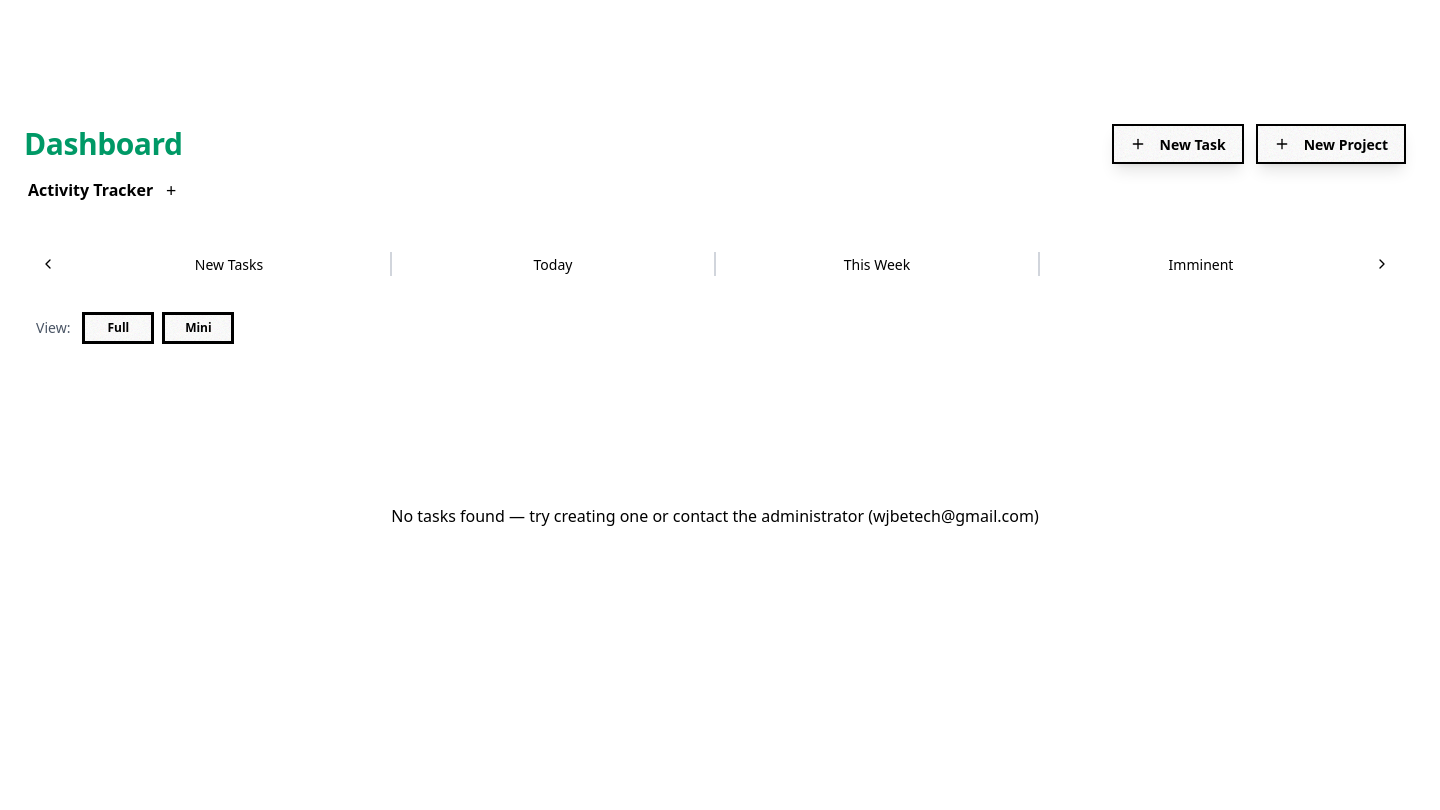
Dashboard modals › opens Add New Task modal when New Task clicked
This screenshot has width=1440, height=810.
What coordinates should you click on to do the following:
click the button "New Task"
I would click on:
 (1178, 144)
Its box is [1112,124,1244,164].
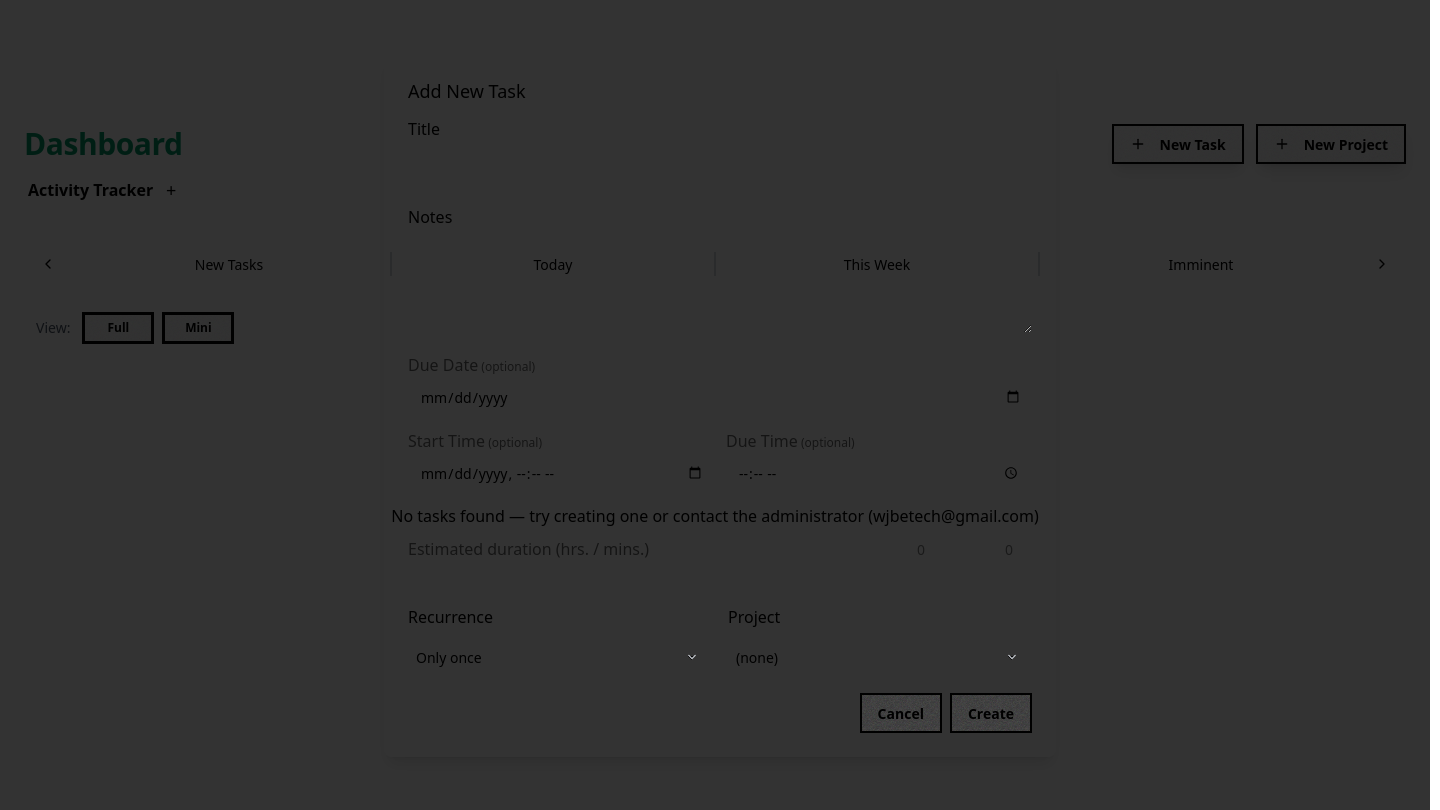
Expected: the heading "Add New Task" is shown, [408,79,526,103]
Expected: the text "Title" is shown, [408,118,440,140]
